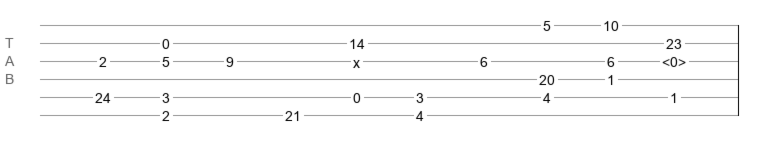0: (162, 36, 170, 46), (353, 90, 361, 100)
1: (607, 72, 615, 82), (670, 90, 678, 100)
10: (603, 18, 619, 28)
14: (349, 36, 365, 46)
2: (99, 54, 107, 64), (162, 108, 170, 118)
20: (539, 72, 555, 82)
21: (285, 108, 301, 118)
23: (666, 36, 682, 46)
24: (95, 90, 111, 100)
3: (162, 90, 170, 100), (416, 90, 424, 100)
4: (416, 108, 424, 118), (543, 90, 551, 100)
5: (162, 54, 170, 64), (543, 18, 551, 28)
6: (480, 54, 488, 64), (607, 54, 615, 64)
9: (226, 54, 234, 64)
harmonic: (662, 54, 686, 64)
x: (353, 55, 360, 63)
